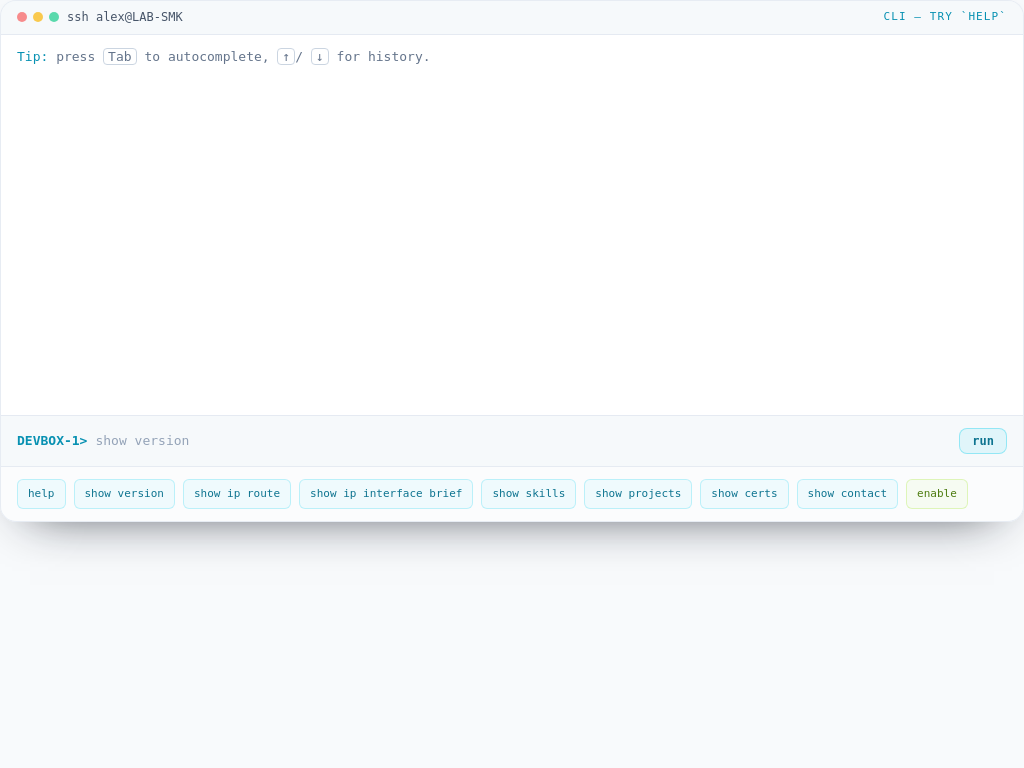
Scenario: Terminal › accepts a Cisco-style abbreviation
Type "sh ip int br" into the field named "terminal command input". click: (523, 441)
box: [96, 431, 951, 450]
Then press Enter
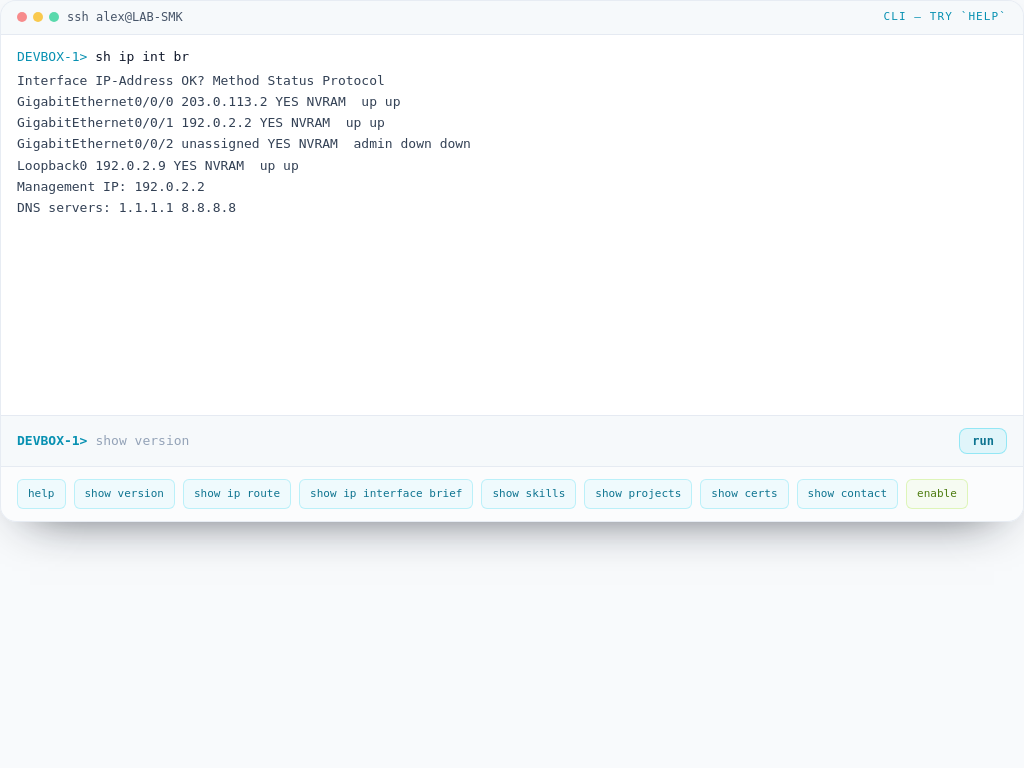
expect the text "Interface IP-Address OK? Method Status Protocol" is shown: met, box [17, 73, 385, 88]
